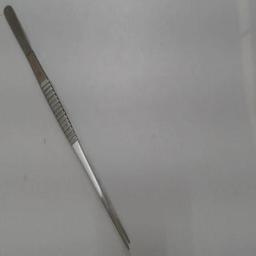DeBakey Dissector: (1, 2, 143, 252)
